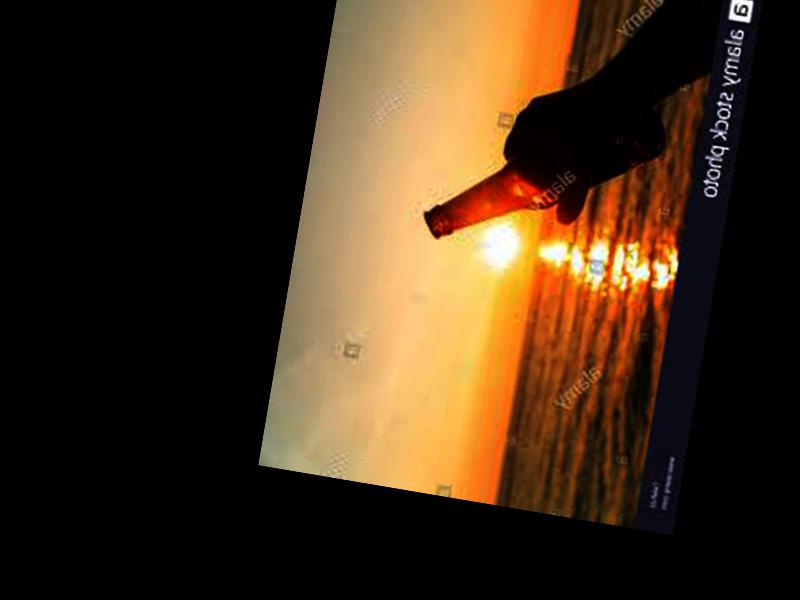Beer: (417, 67, 672, 272)
